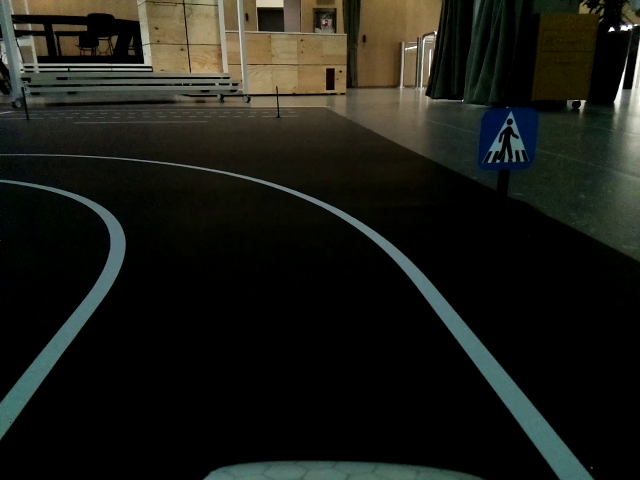pedestrians: (478, 111, 531, 167)
